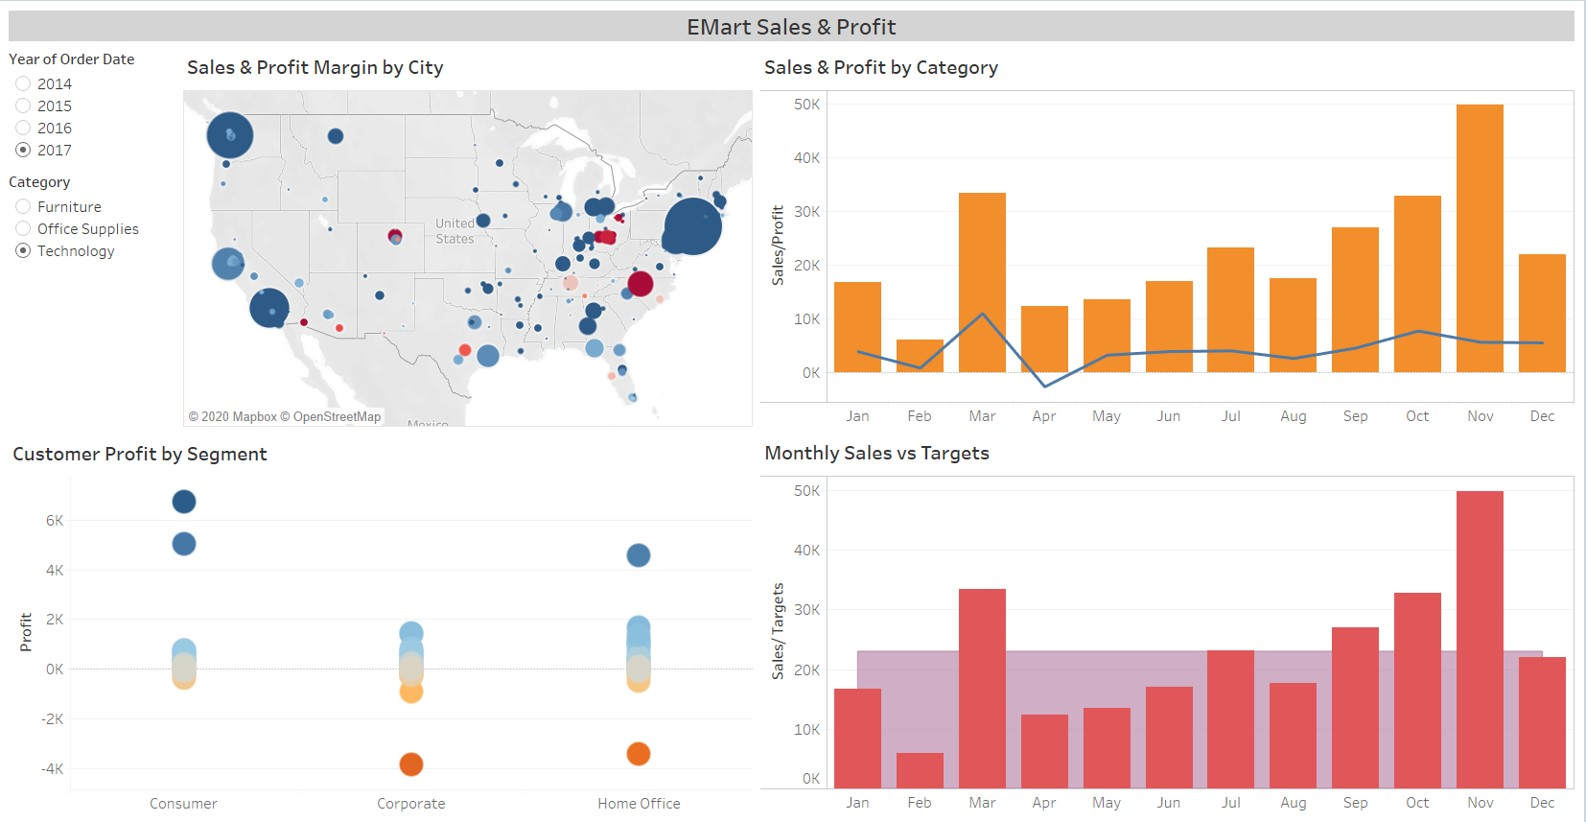

The page's visual inventory and layout, read from the dashboard file:
{"tool":"tableau","page":{"name":"EMart Sales & Profit","canvas":[1000,1000],"units":"permille","ordinal":0},"visuals":[{"type":"title","box":[5,9.8,990,57.5]},{"type":"filter","title":"Sales & Profit Margin by City","param":"[federated.01ha2b81fmcbet1bhv1ak0mvvq1d].[yr:Order Date:ok]","box":[5,67.2,109.7,180.9]},{"type":"worksheet","title":"Sales & Profit Margin by City","mark":"Automatic","box":[114.7,67.2,363.4,461.5]},{"type":"worksheet","title":"Sales & Profit by Category","mark":"Bar","rows":["Sales","Profit"],"cols":["Order Date"],"box":[478.1,67.2,516.9,461.4]},{"type":"filter","title":"Sales & Profit Margin by City","param":"[federated.01ha2b81fmcbet1bhv1ak0mvvq1d].[none:Category:nk]","box":[5,248.2,109.7,147.9]},{"type":"worksheet","title":"Monthly Sales vs Targets","mark":"Automatic","rows":["Target","Sales"],"cols":["Order Date"],"box":[478.1,528.6,516.9,461.6]},{"type":"worksheet","title":"Customer Profit by Segment","mark":"Circle","rows":["Profit"],"cols":["Segment"],"box":[5,528.7,473.1,461.5]}]}

Visuals, with their boxes on the dashboard's canvas, which has no fixed pixel size, in thousandths of its width and height (x1, y1, x2, y2). These are canvas units, not pixel positions in the 1586x822 screenshot, which may show the page scaled, cropped or inside an application window:
title: bbox(5, 10, 995, 67)
"Sales & Profit Margin by City" filter: bbox(5, 67, 115, 248)
"Sales & Profit Margin by City" worksheet: bbox(115, 67, 478, 529)
"Sales & Profit by Category" worksheet (Bar marks): bbox(478, 67, 995, 529)
"Sales & Profit Margin by City" filter: bbox(5, 248, 115, 396)
"Monthly Sales vs Targets" worksheet: bbox(478, 529, 995, 990)
"Customer Profit by Segment" worksheet (Circle marks): bbox(5, 529, 478, 990)
